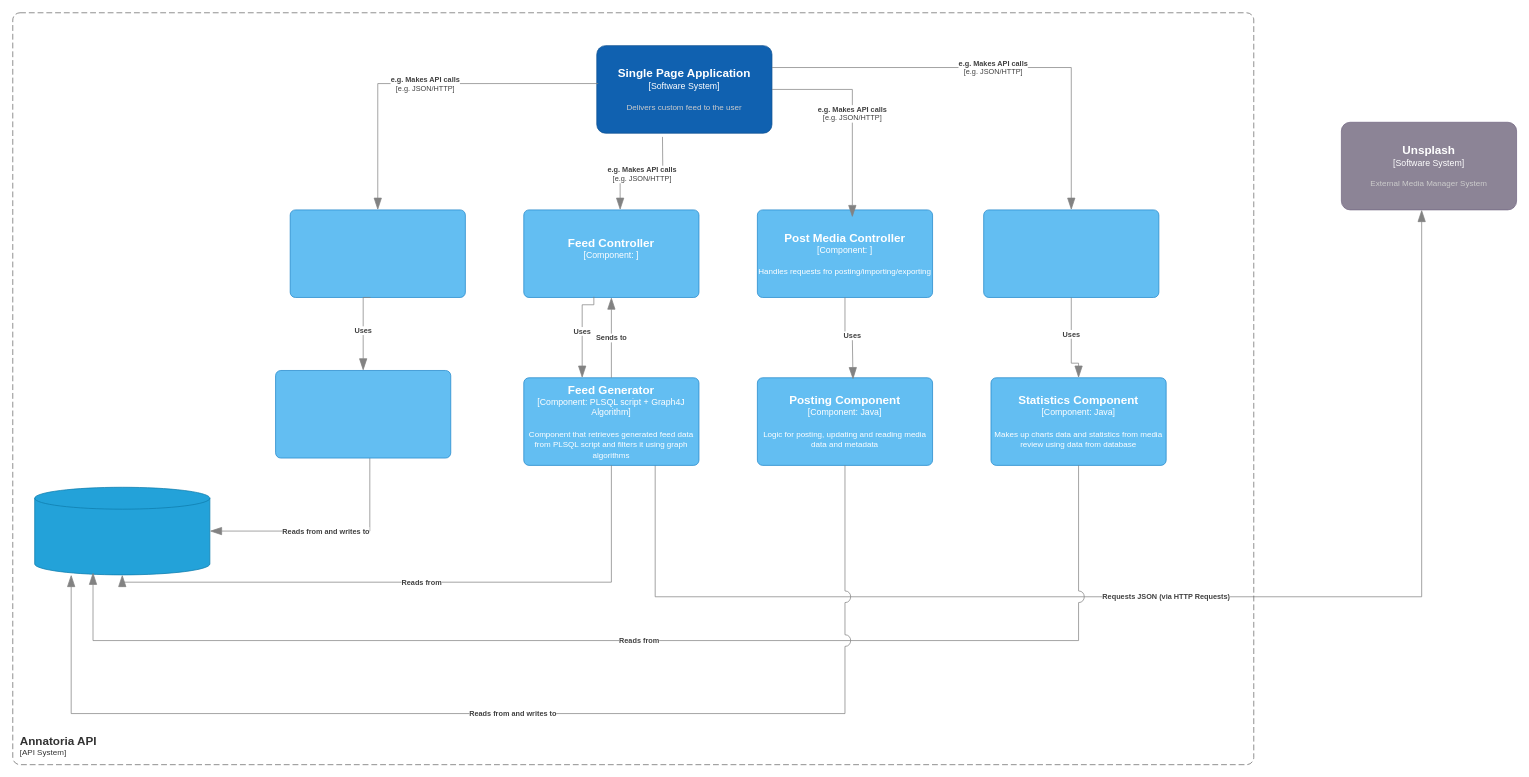
This 1529x777 diagram has some shape labels left out. Each missing label, with the box of its shape:
AccountController [Component: ] Handles logic for register/login: (289, 209, 465, 297)
Database [Container: Oracle Database 23ai] Stores data about accounts and media: (34, 487, 210, 575)
Security Component [Component: Java] Functionality for singing in, registering: (275, 370, 451, 458)
Statistics Controller [Component: ] Handles logic for register/login: (983, 209, 1159, 297)
